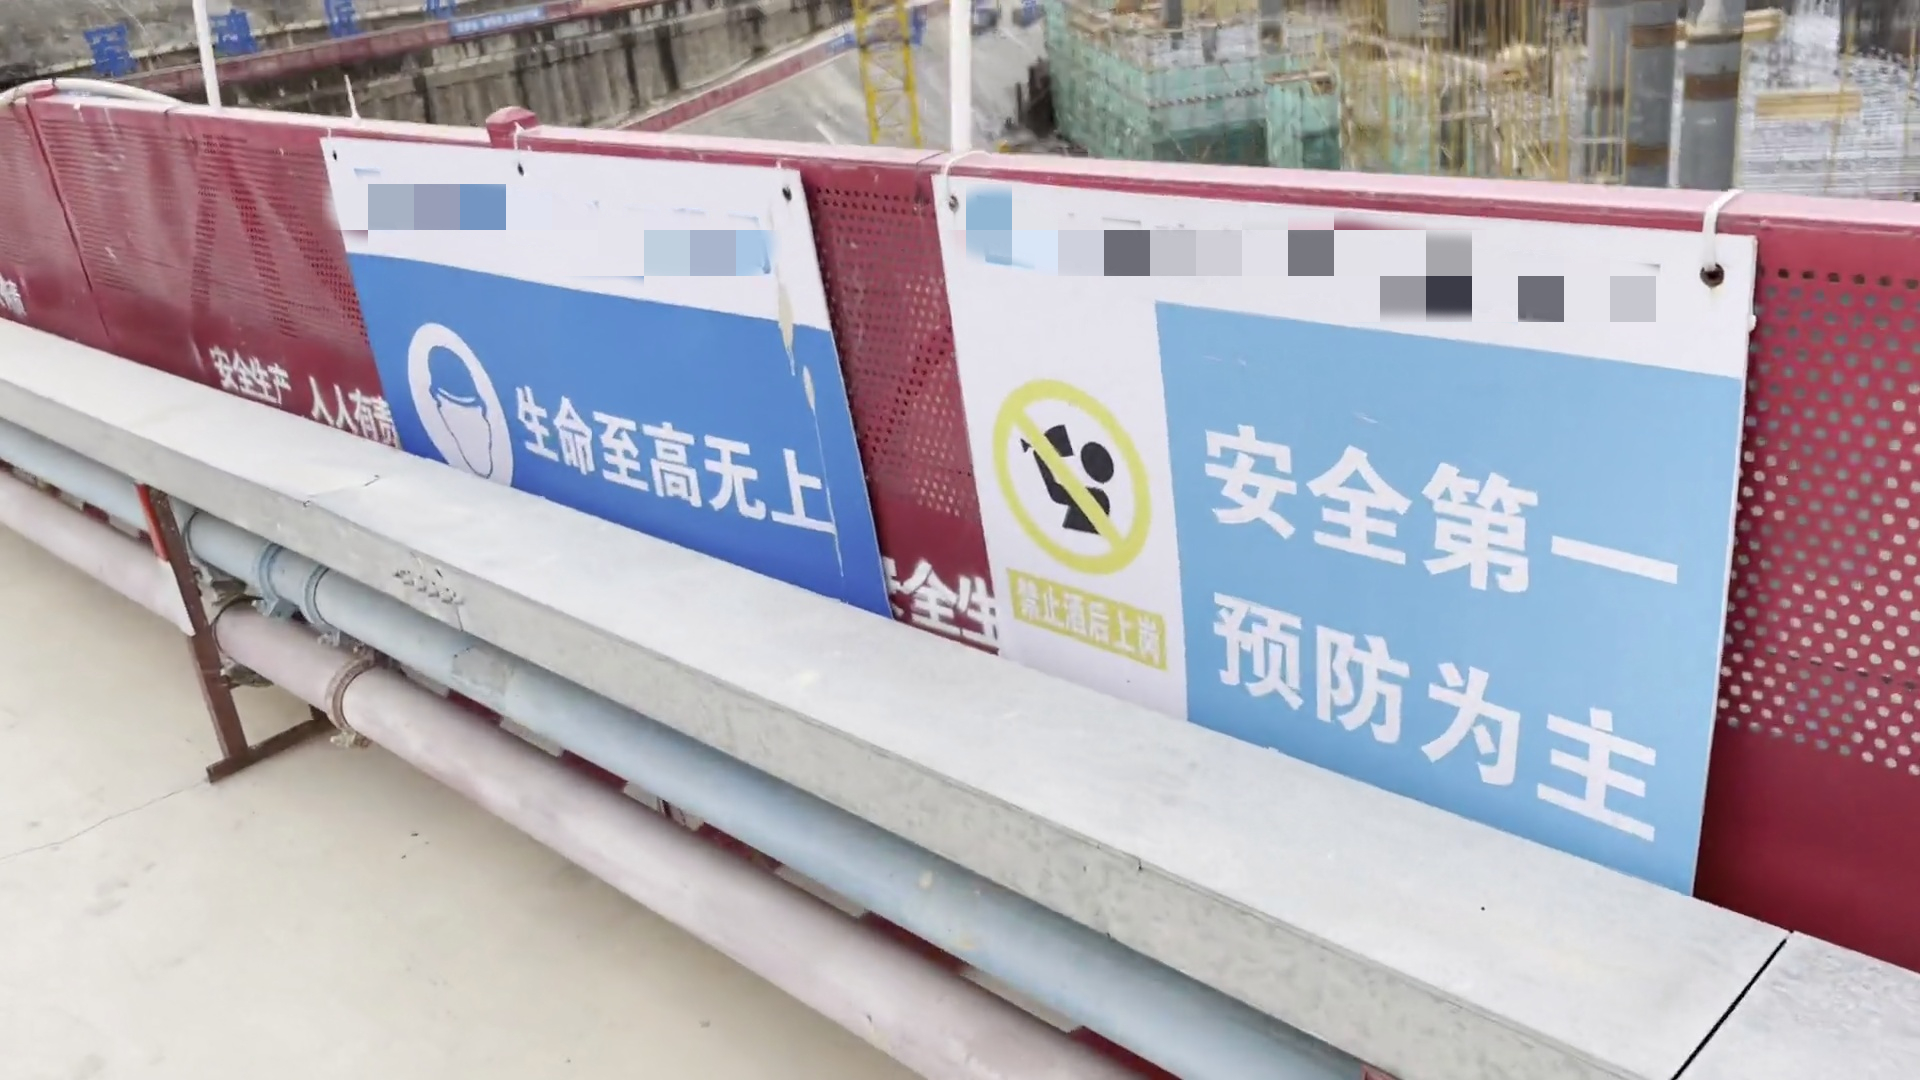fence: (756, 146, 1920, 996), (342, 105, 835, 559), (1, 96, 353, 454)
slogan: (899, 146, 1768, 939), (315, 108, 909, 641), (433, 5, 663, 44)
